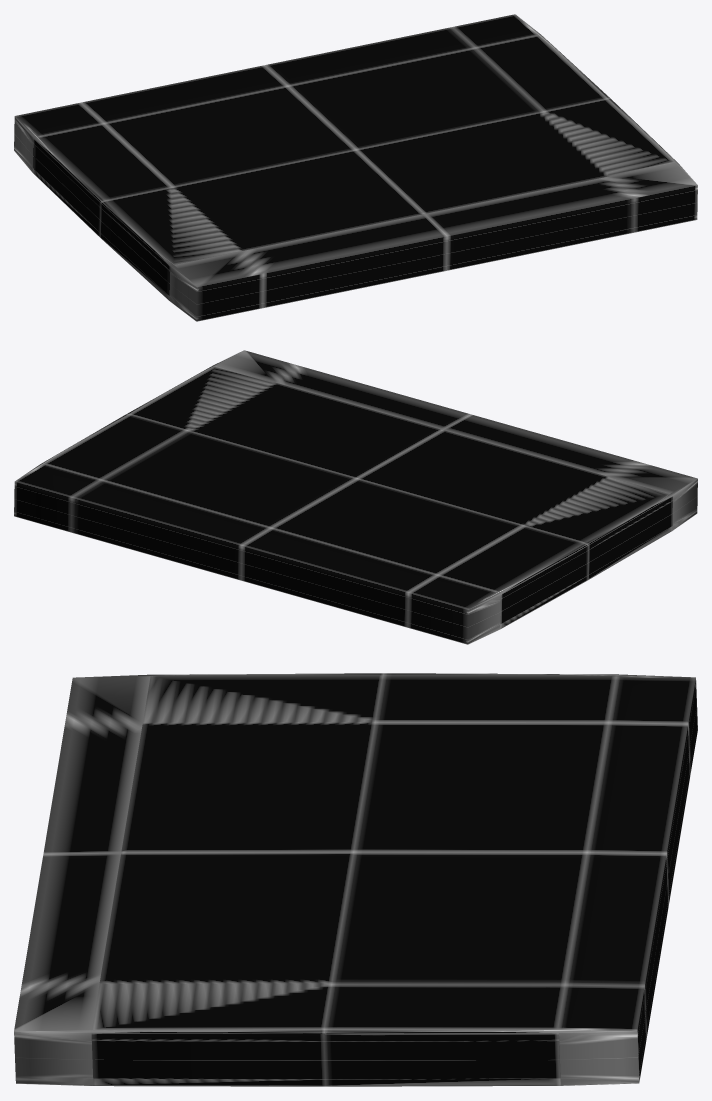
File: Butter_Slice.fbx
The picture shows the model from 3 angles, top to bottom: view 1: azimuth 30°, elevation 25°; view 2: azimuth 150°, elevation 25°; view 3: azimuth 270°, elevation 25°; orthographic projection. The views are drawn at different scales.
Parts seen in each view (by area): view 1: pCube9; view 2: pCube9; view 3: pCube9.
Part boxes in pixels (bbox=[...]): pCube9: bbox=[14, 14, 697, 321]; pCube9: bbox=[14, 350, 697, 644]; pCube9: bbox=[14, 673, 697, 1086].
Bounding box in the file's own units: 8.93 × 0.8226 × 6.96.
